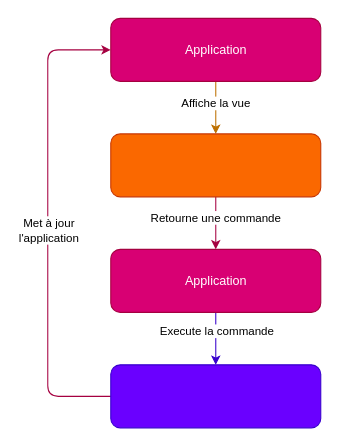
Some shapes in this 339 by 446 pixel diagram are drawn without their labels. The box of each missing label's shape, as (x1, y1, x2, y2) in pixels:
Command: (110, 364, 321, 428)
View: (110, 133, 321, 197)
